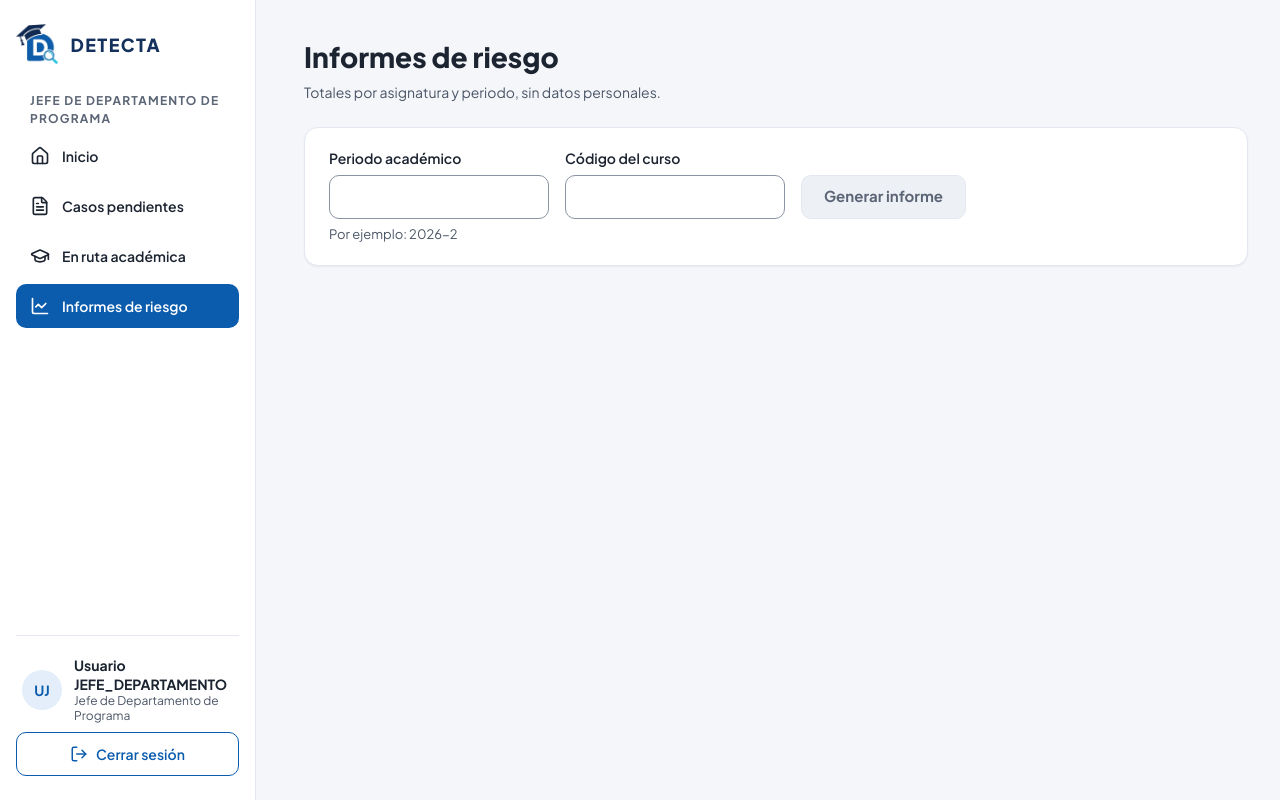
Test: Informes de riesgo (CUD10, Jefe) › 200 sin informe: «No hay datos para el periodo seleccionado»; el Jefe no envía programa
The width and height of the screenshot is (1280, 800).
Type "2026-2" into the field labelled "Periodo académico" at (439, 197), box 329,175 -> 549,219
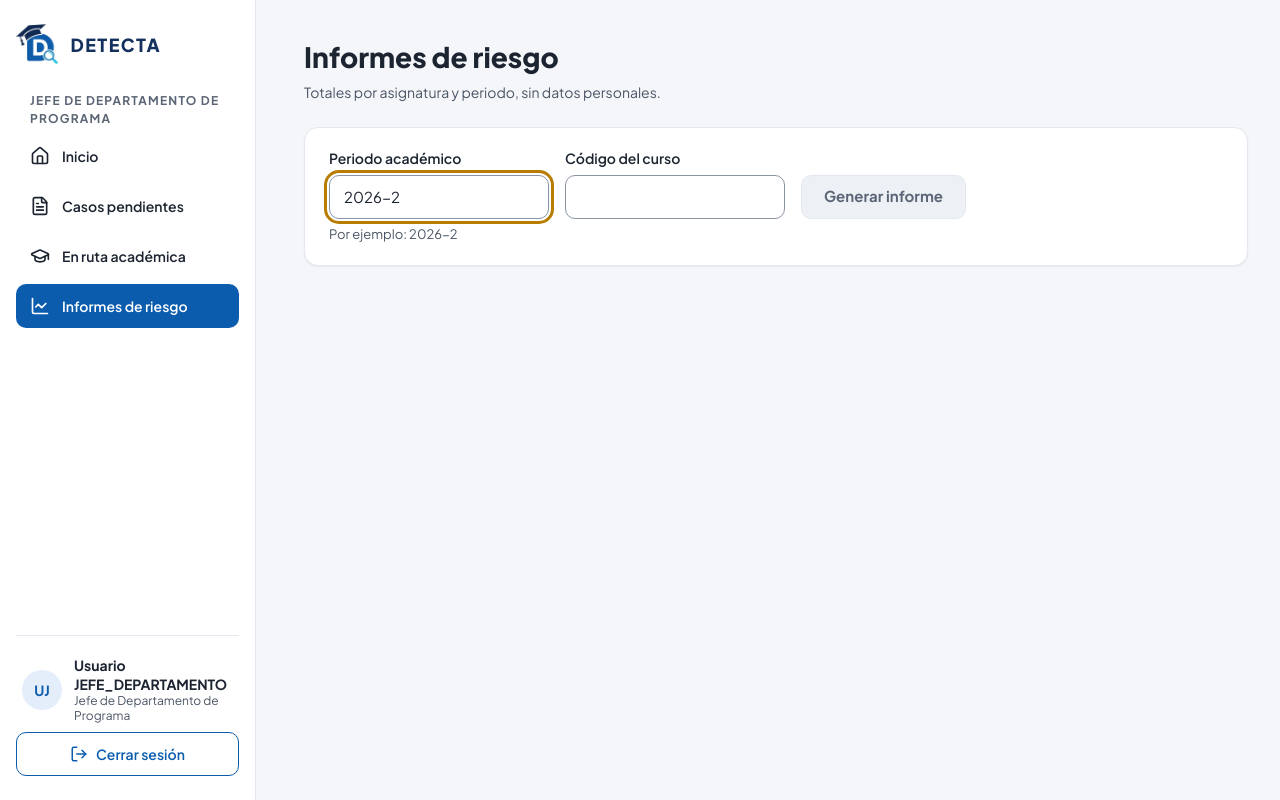
Type "MAT-201" into the field labelled "Código del curso" at (675, 197), box 565,175 -> 785,219
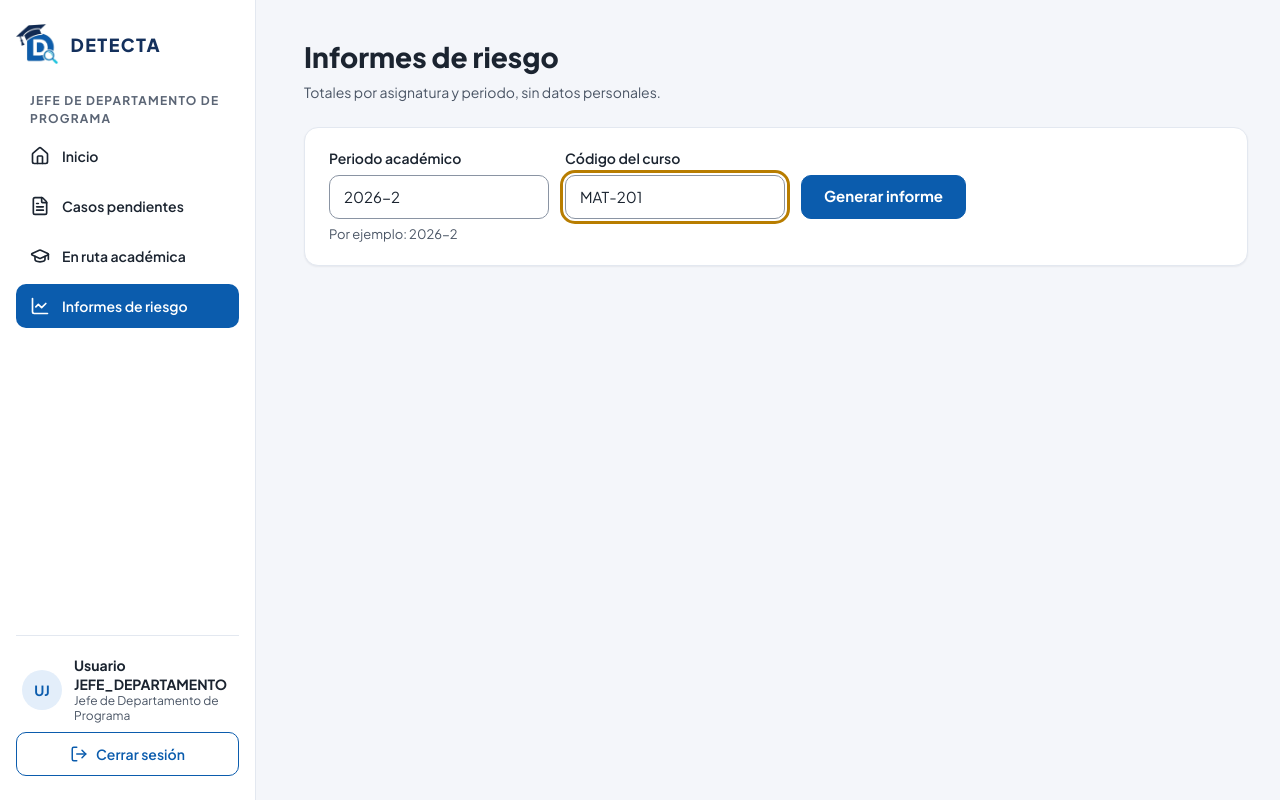
Click the button "Generar informe" at (883, 197), box 801,175 -> 966,219
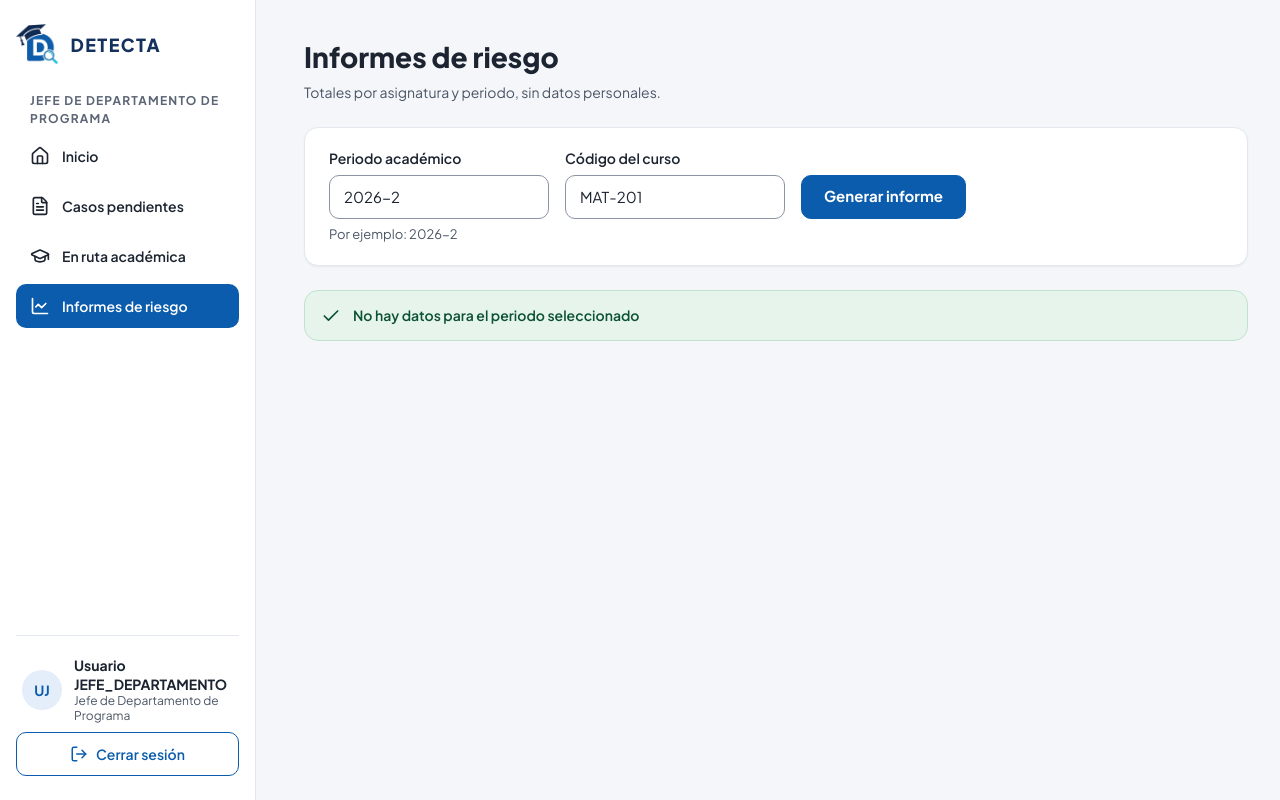
Result: the message reads "No hay datos para el periodo seleccionado" at 353,306 -> 640,324
